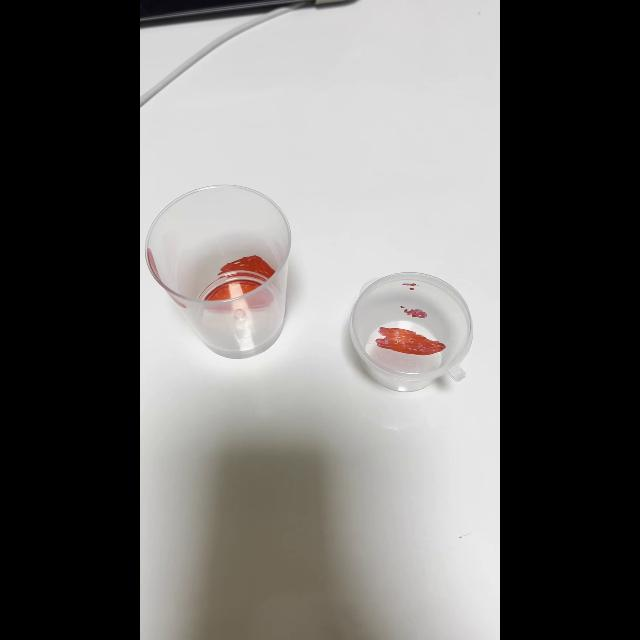dirty: (146, 187, 292, 356), (349, 273, 473, 391)
